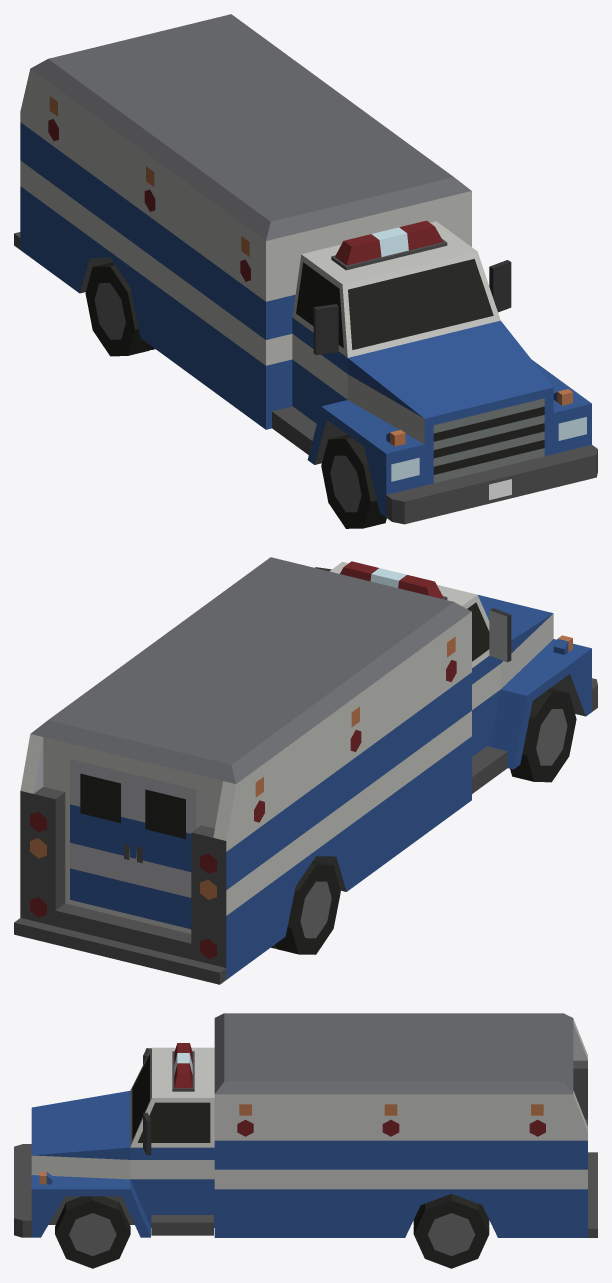
The model's file is Veh_Police_Truck.obj.
The picture shows the model from 3 angles, top to bottom: view 1: azimuth 30°, elevation 25°; view 2: azimuth 150°, elevation 25°; view 3: azimuth 270°, elevation 25°; orthographic projection. The views are drawn at different scales.
Bounding box in the file's own units: 1.3 × 1.45 × 4.18.
